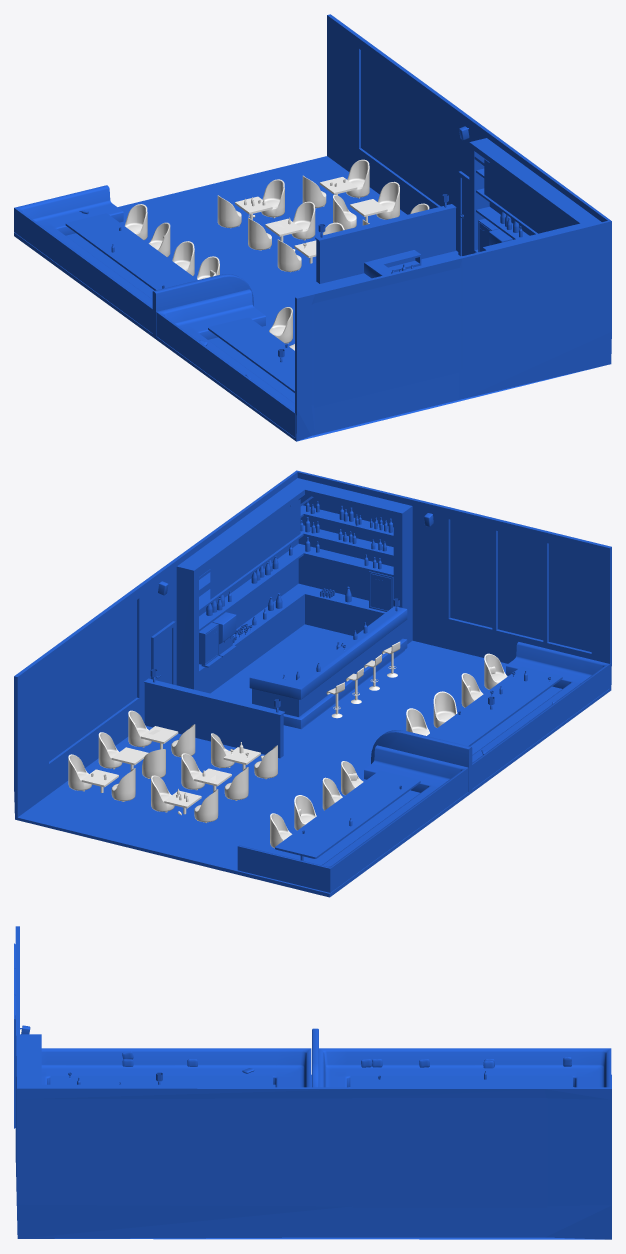
Rendered from blend.gltf.
3 views of the same model, one above another, from view 1: azimuth 30°, elevation 25°; view 2: azimuth 150°, elevation 25°; view 3: azimuth 270°, elevation 25° (orthographic). The views are drawn at different scales.
Visible parts, largest first — view 1: base_bar.001, base_bar.006, base_bar.007, base_bar.003, base_bar.004, base_bar.008, base_bar.013, base_bar.009, base_bar.011; view 2: base_bar.001, base_bar.004, base_bar.006, base_bar.003, base_bar.007, base_bar.005, base_bar.008, base_bar.020, base_bar.018, base_bar.010; view 3: base_bar.001.
Part boxes in pixels (x1,y1,x2,y2): base_bar.001: (14,14,611,441); base_bar.006: (217,179,284,228); base_bar.007: (248,201,315,250); base_bar.003: (302,159,369,208); base_bar.004: (333,181,399,229); base_bar.008: (277,222,344,272); base_bar.013: (269,307,292,343); base_bar.009: (125,204,147,240); base_bar.011: (172,241,194,275); base_bar.001: (14,470,611,897); base_bar.004: (98,732,165,778); base_bar.006: (151,775,218,822); base_bar.003: (68,754,135,801); base_bar.007: (181,753,248,800); base_bar.005: (128,710,195,757); base_bar.008: (211,733,277,779); base_bar.020: (433,691,457,727); base_bar.018: (484,653,507,689); base_bar.010: (294,795,316,830); base_bar.001: (14,926,611,1239).
Size of the model in its own units: 18.44 by 8.01 by 28.51.
